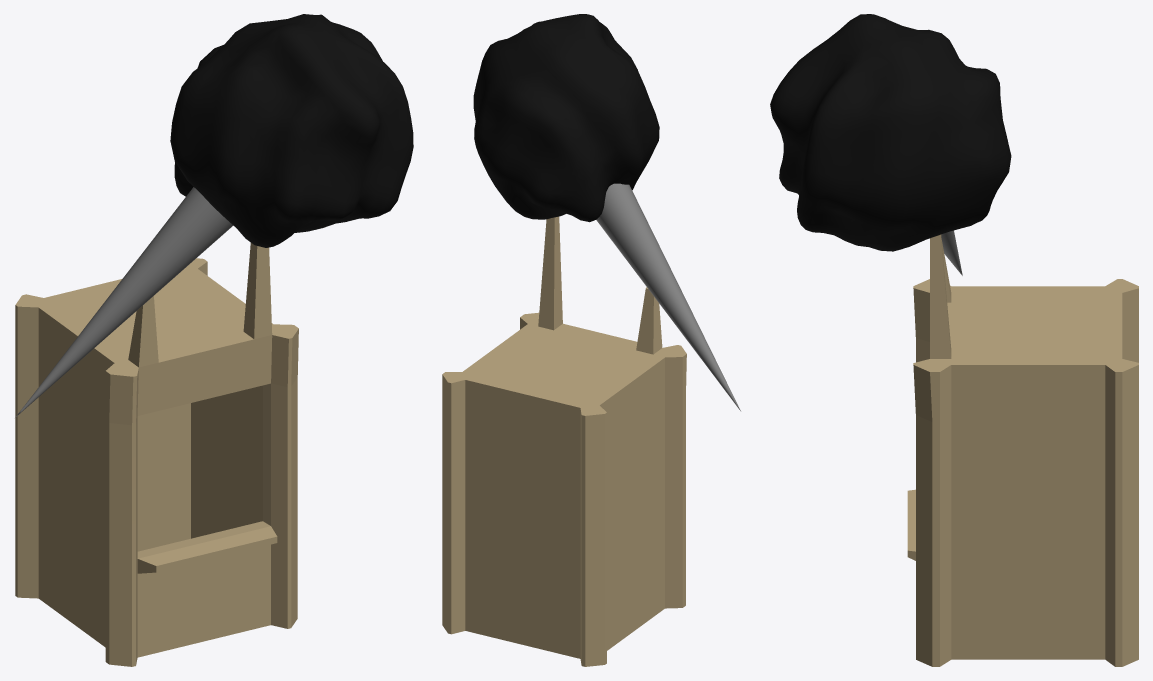
Rendered from SM_CottonCandyBooth.fbx.
3 renders of one model, left to right at view 1: azimuth 30°, elevation 25°; view 2: azimuth 150°, elevation 25°; view 3: azimuth 270°, elevation 25°, orthographic. The views are drawn at different scales.
Parts seen in each view (by area): view 1: CottonBooth_low, Cotton_low; view 2: CottonBooth_low, Cotton_low; view 3: CottonBooth_low, Cotton_low.
Part boxes in pixels (box(x1,y1,x2,y2)): CottonBooth_low: box(15, 242, 298, 666); Cotton_low: box(15, 14, 413, 417); CottonBooth_low: box(442, 216, 686, 666); Cotton_low: box(473, 14, 740, 410); CottonBooth_low: box(907, 234, 1138, 666); Cotton_low: box(770, 14, 1011, 275).
Size of the model in its own units: 168 by 293 by 155.
